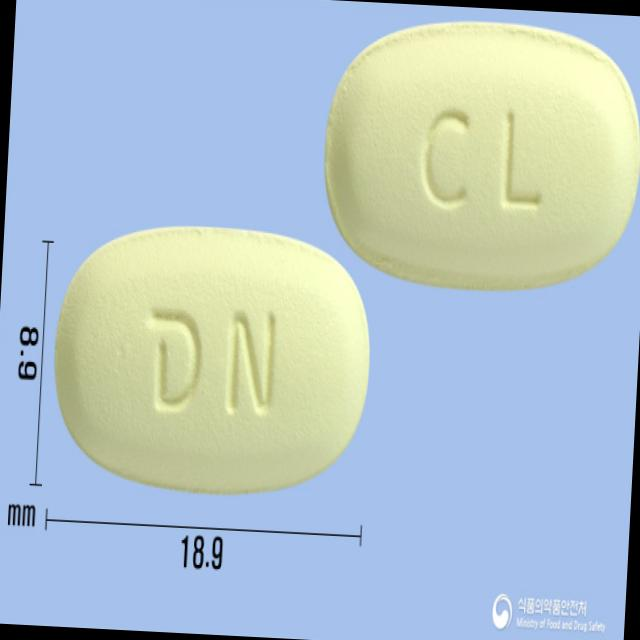Clamacin: (45, 210, 380, 512), (314, 8, 640, 312)
